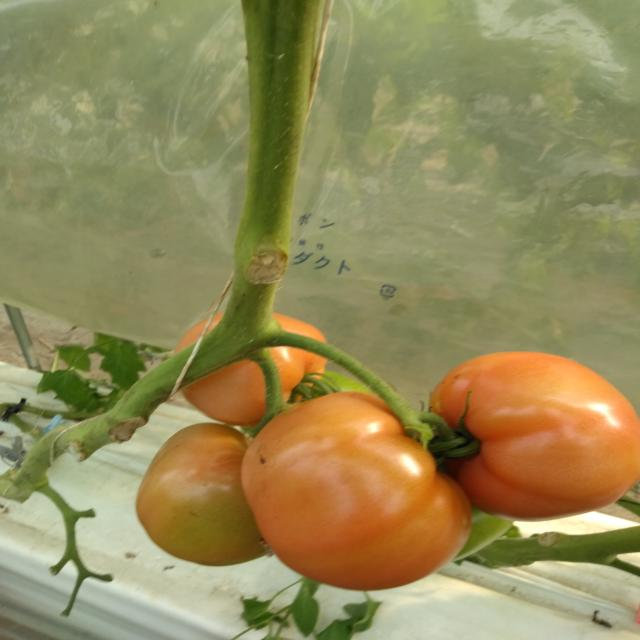sari: (250, 336, 620, 596)
